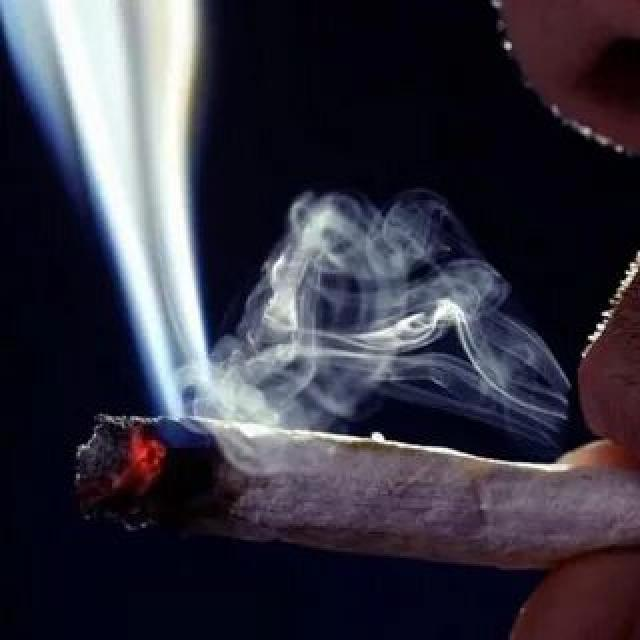cigarette: (70, 394, 640, 574)
